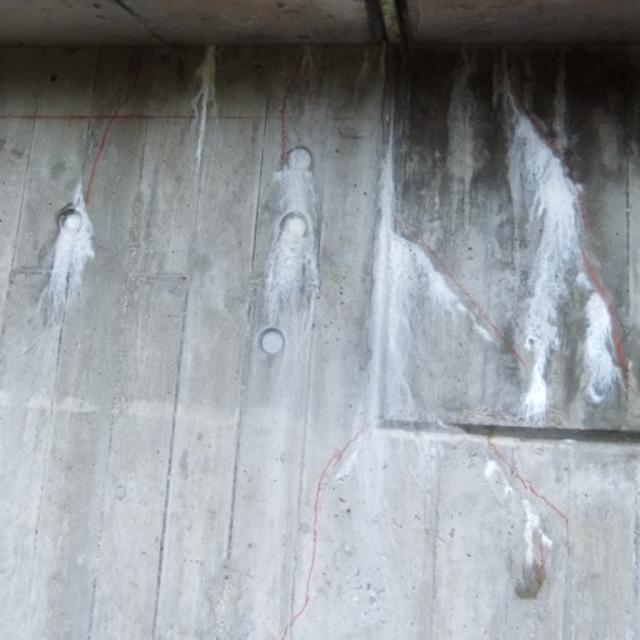D01: (510, 110, 605, 417), (266, 150, 321, 325), (46, 182, 97, 313), (194, 46, 221, 173)
